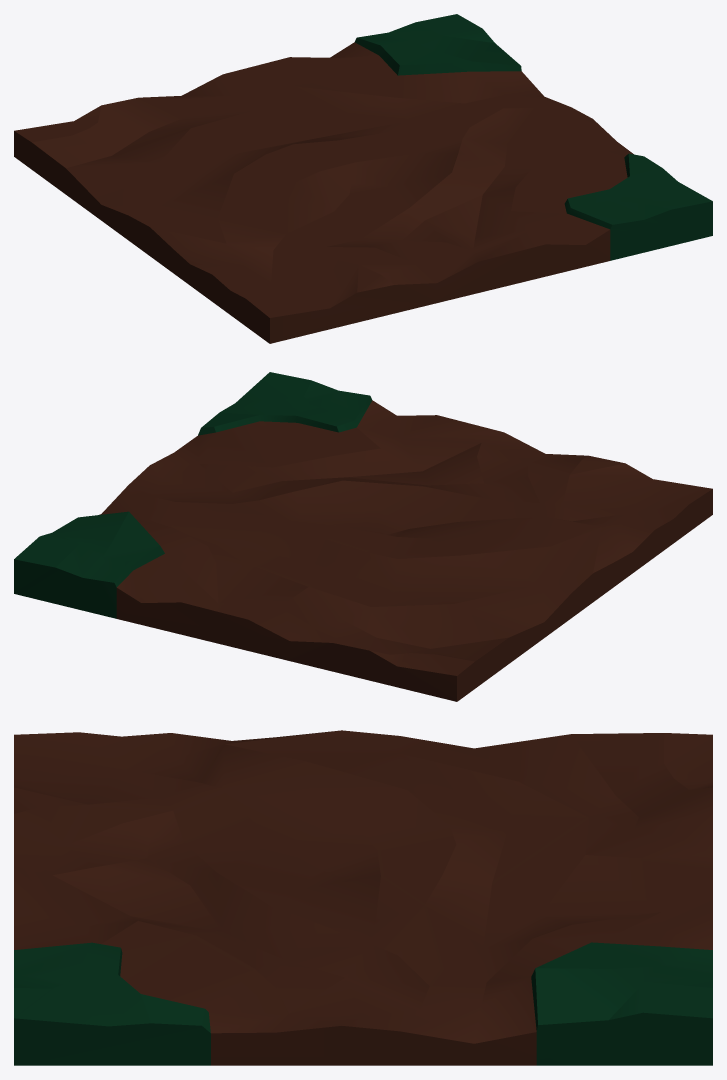
Rendered from Ground_Path_Entrance_R.fbx.
The picture shows the model from 3 angles, top to bottom: view 1: azimuth 30°, elevation 25°; view 2: azimuth 150°, elevation 25°; view 3: azimuth 270°, elevation 25°; orthographic projection. The views are drawn at different scales.
Visible parts, largest first — view 1: Ground_Path_Entrance_R; view 2: Ground_Path_Entrance_R; view 3: Ground_Path_Entrance_R.
Part boxes in pixels (box(x1,y1,x2,y2)): Ground_Path_Entrance_R: box(14, 14, 712, 343); Ground_Path_Entrance_R: box(14, 372, 712, 701); Ground_Path_Entrance_R: box(14, 730, 712, 1065).
Size of the model in its own units: 147 by 14.83 by 147.
